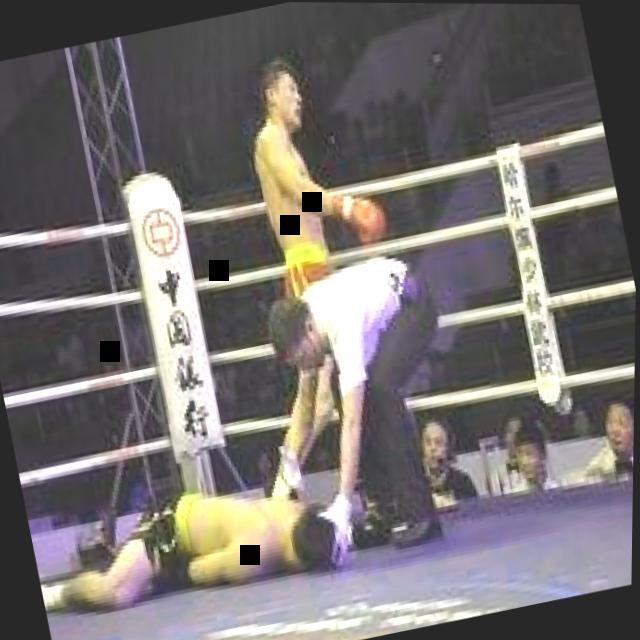Fall-Detected: (25, 437, 376, 630)
